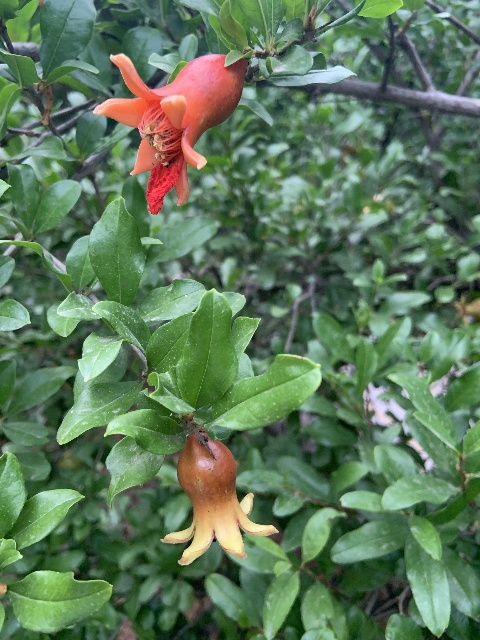early-fruit: (161, 432, 279, 565)
flower: (93, 51, 245, 213)
